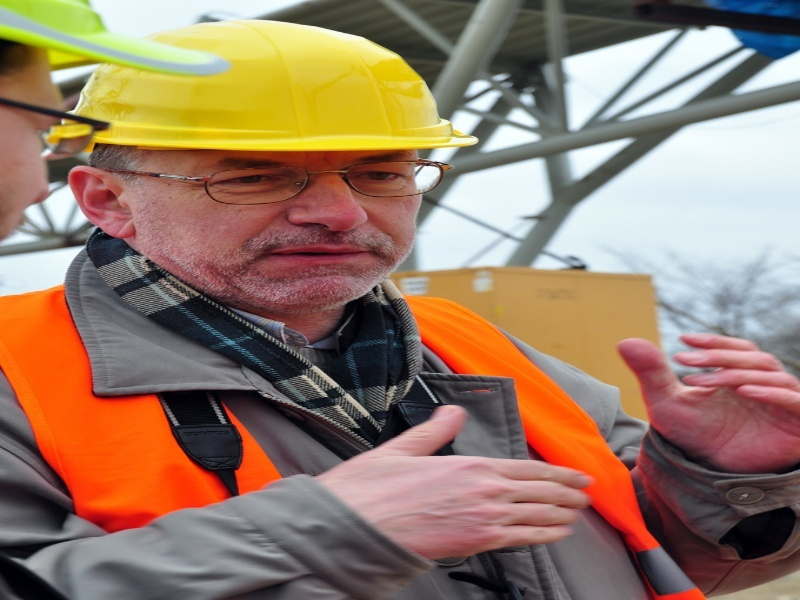Baret: (49, 19, 478, 154)
